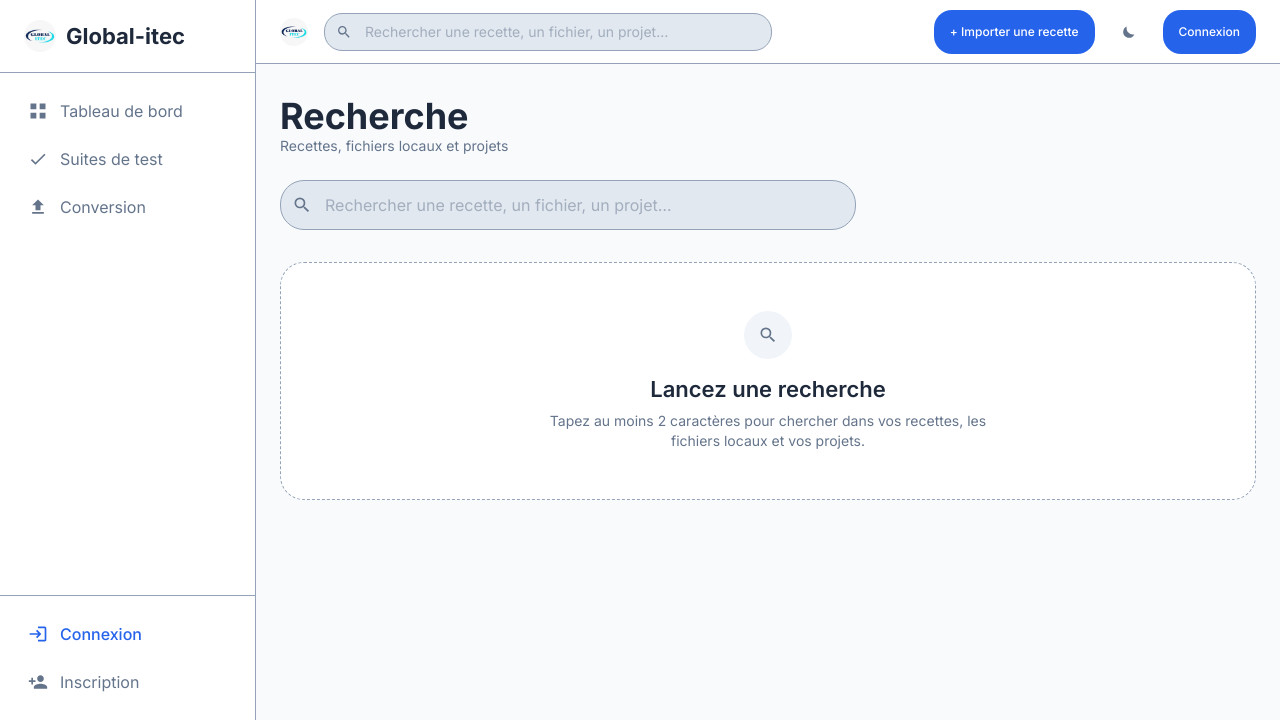
Test: SearchPage › shows local file results via searchFiles
In the search field named "Recherche globale": (568, 205) 280,180 -> 856,230, type "recette"
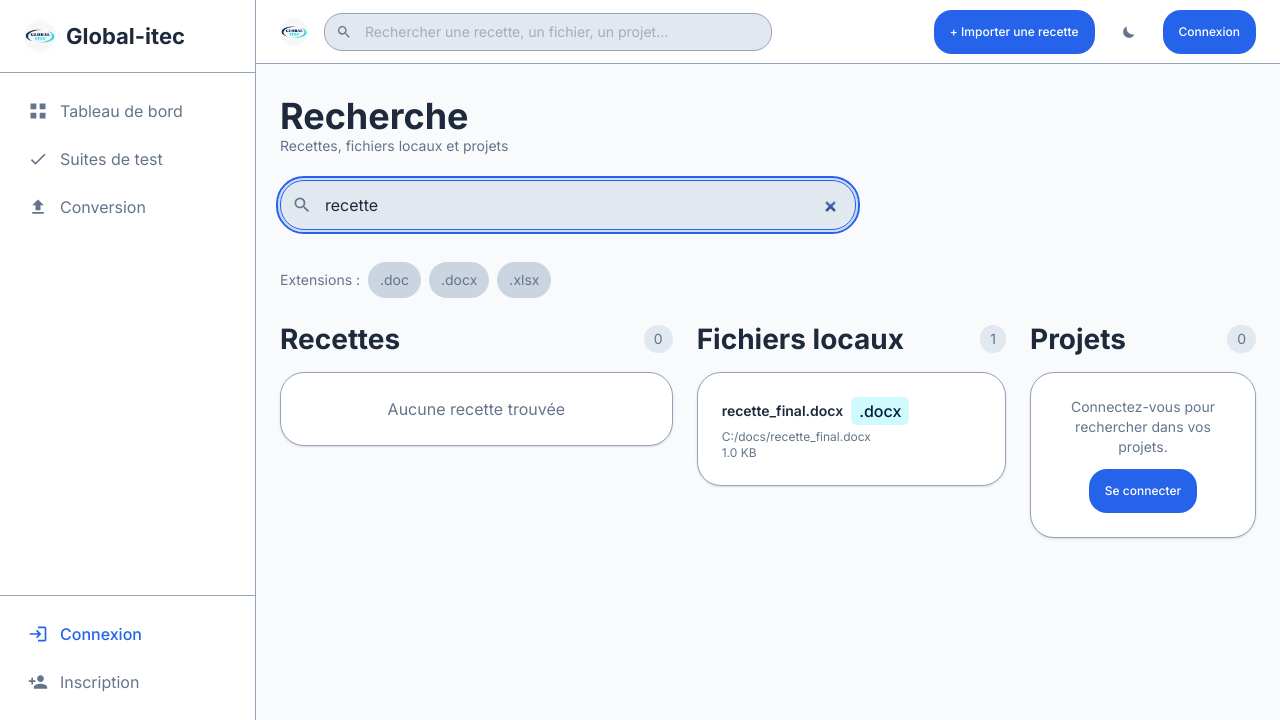
Expected: the text "recette_final.docx" is shown, 722,401 -> 843,421
